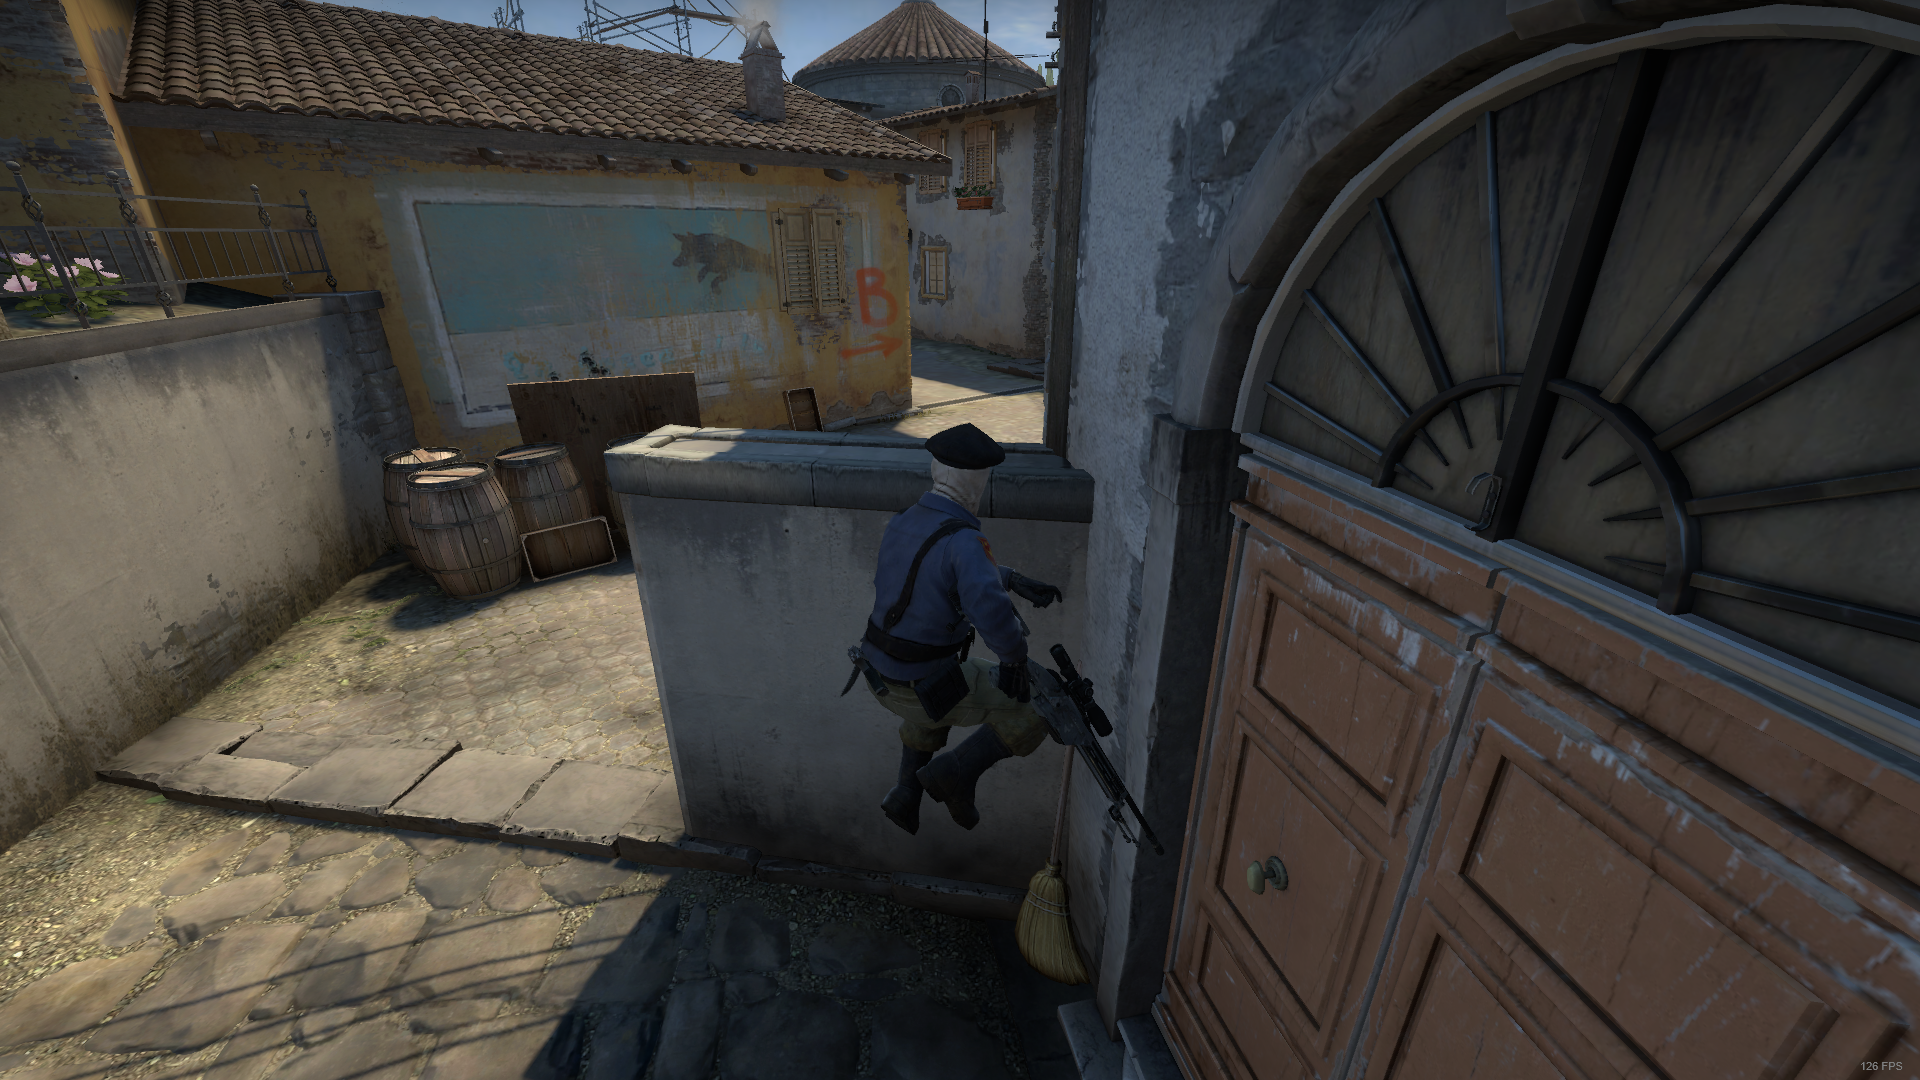t: (845, 421, 1087, 855)
